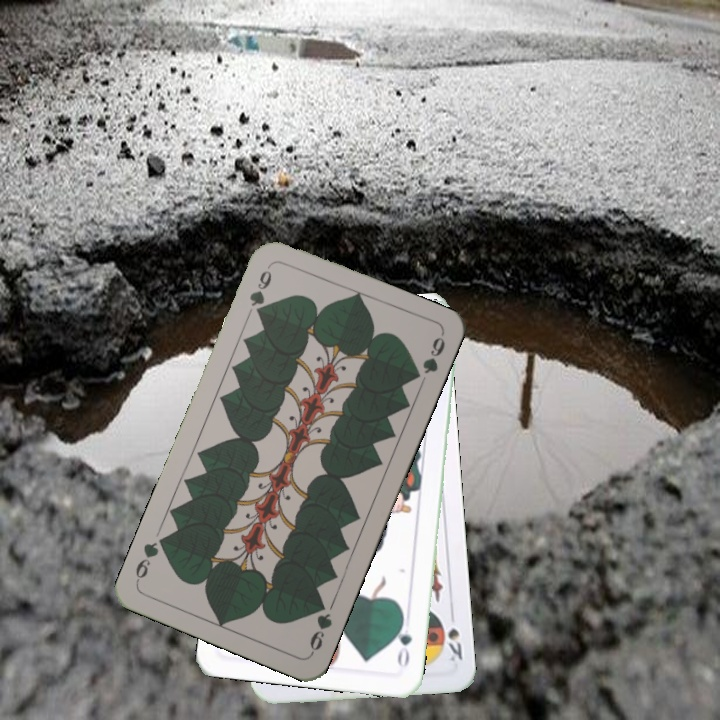G9: (305, 597, 335, 657), (245, 261, 274, 320)
GO: (392, 612, 415, 672)
SK: (444, 607, 465, 664)
